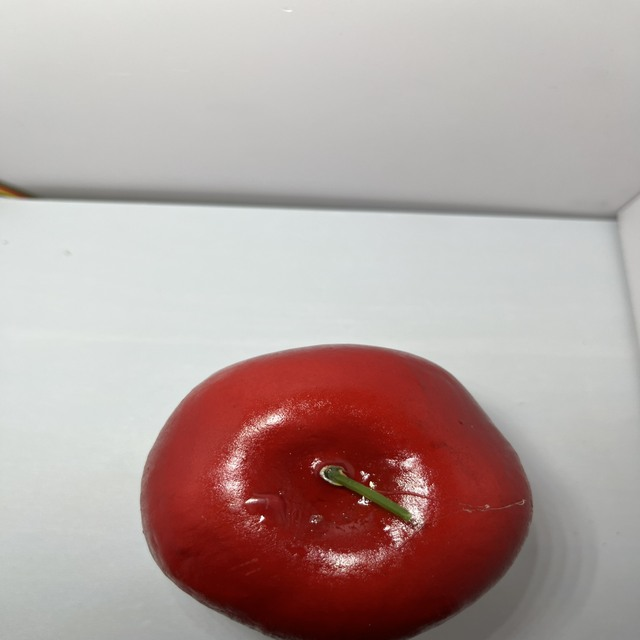Tao: (133, 335, 543, 640)
